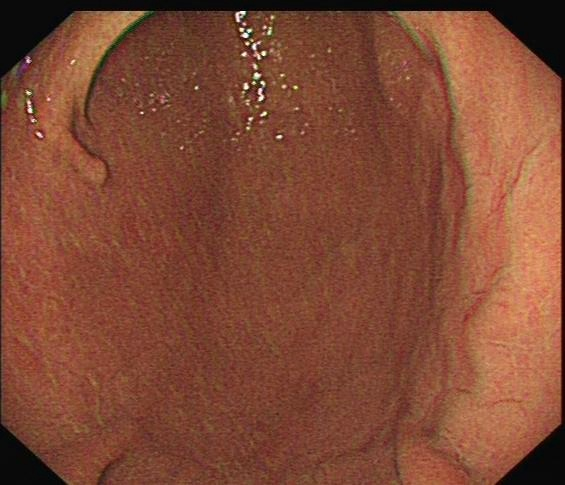Polyp: (34, 73, 126, 196)
